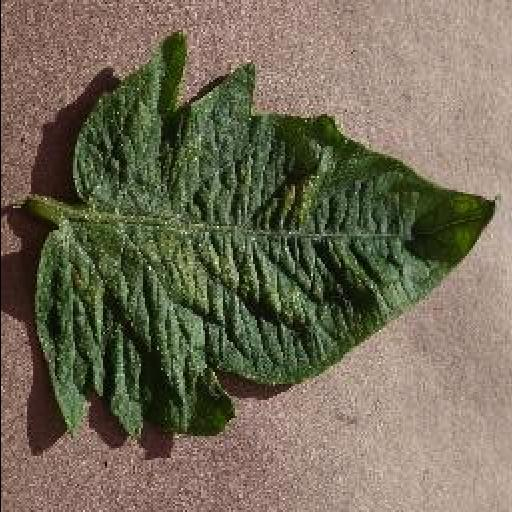disease_tomato: (24, 36, 498, 440)
